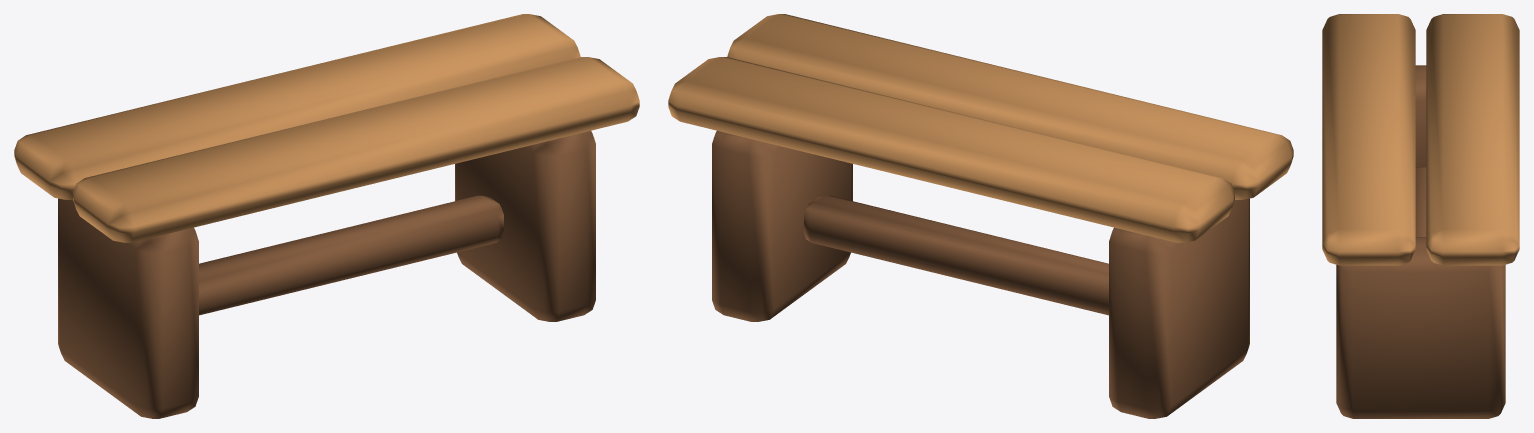
The model's file is v_bench.glb.
The picture shows the model from 3 angles, left to right: view 1: azimuth 30°, elevation 25°; view 2: azimuth 150°, elevation 25°; view 3: azimuth 270°, elevation 25°; orthographic projection. The views are drawn at different scales.
Parts seen in each view (by area): view 1: Bench; view 2: Bench; view 3: Bench.
Boxes of the visible parts, bbox=[...] form: Bench: bbox=[14, 14, 639, 418]; Bench: bbox=[668, 14, 1293, 418]; Bench: bbox=[1322, 14, 1519, 418].
Bounding box in the file's own units: 0.96 × 0.4 × 0.349.
